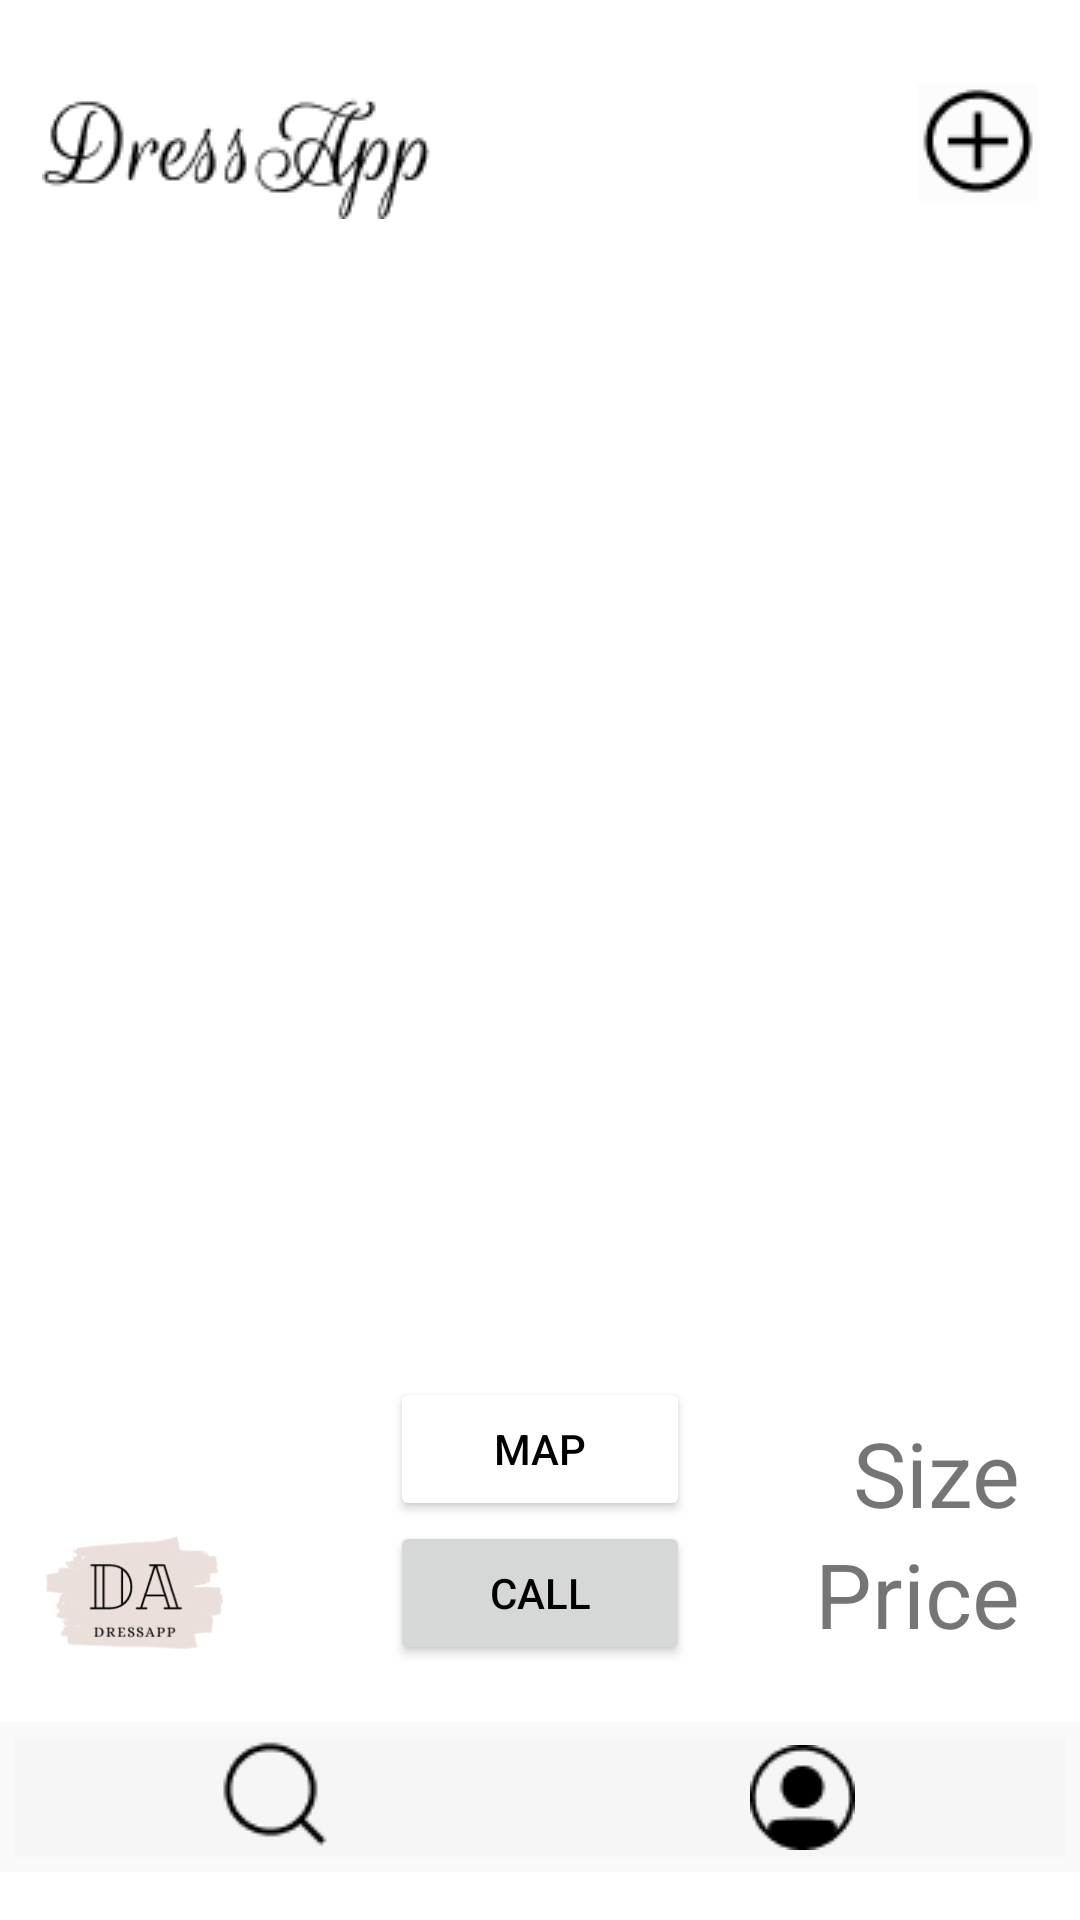

Where to tap for icons on this 1080 × 1920 app screen, as [x,y]:
add product: [978,141]
profile: [802,1797]
search: [275,1794]
